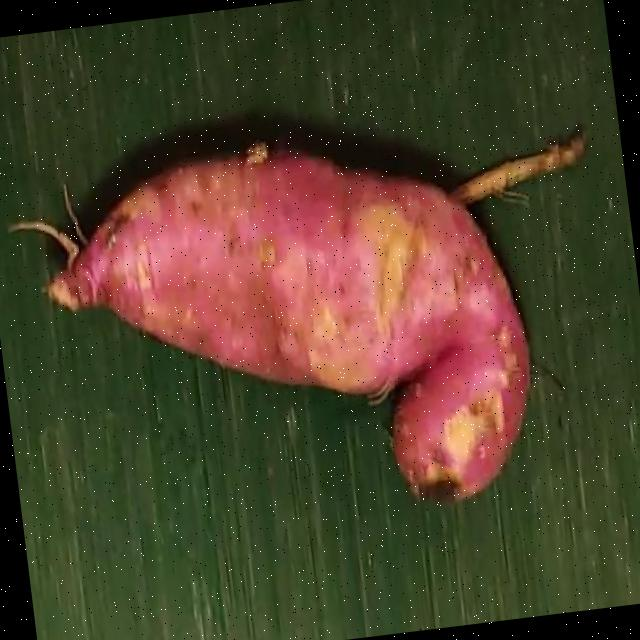Sweet Potato: (34, 144, 578, 506)
